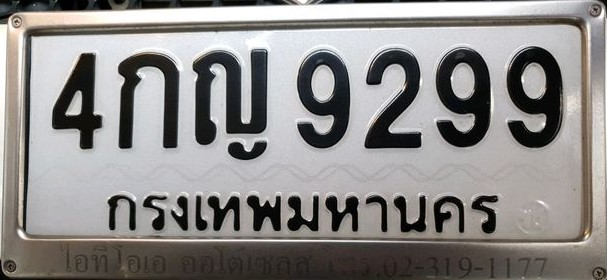num4: (50, 49, 105, 153)
txt01: (113, 49, 183, 152)
txt10: (190, 46, 271, 163)
